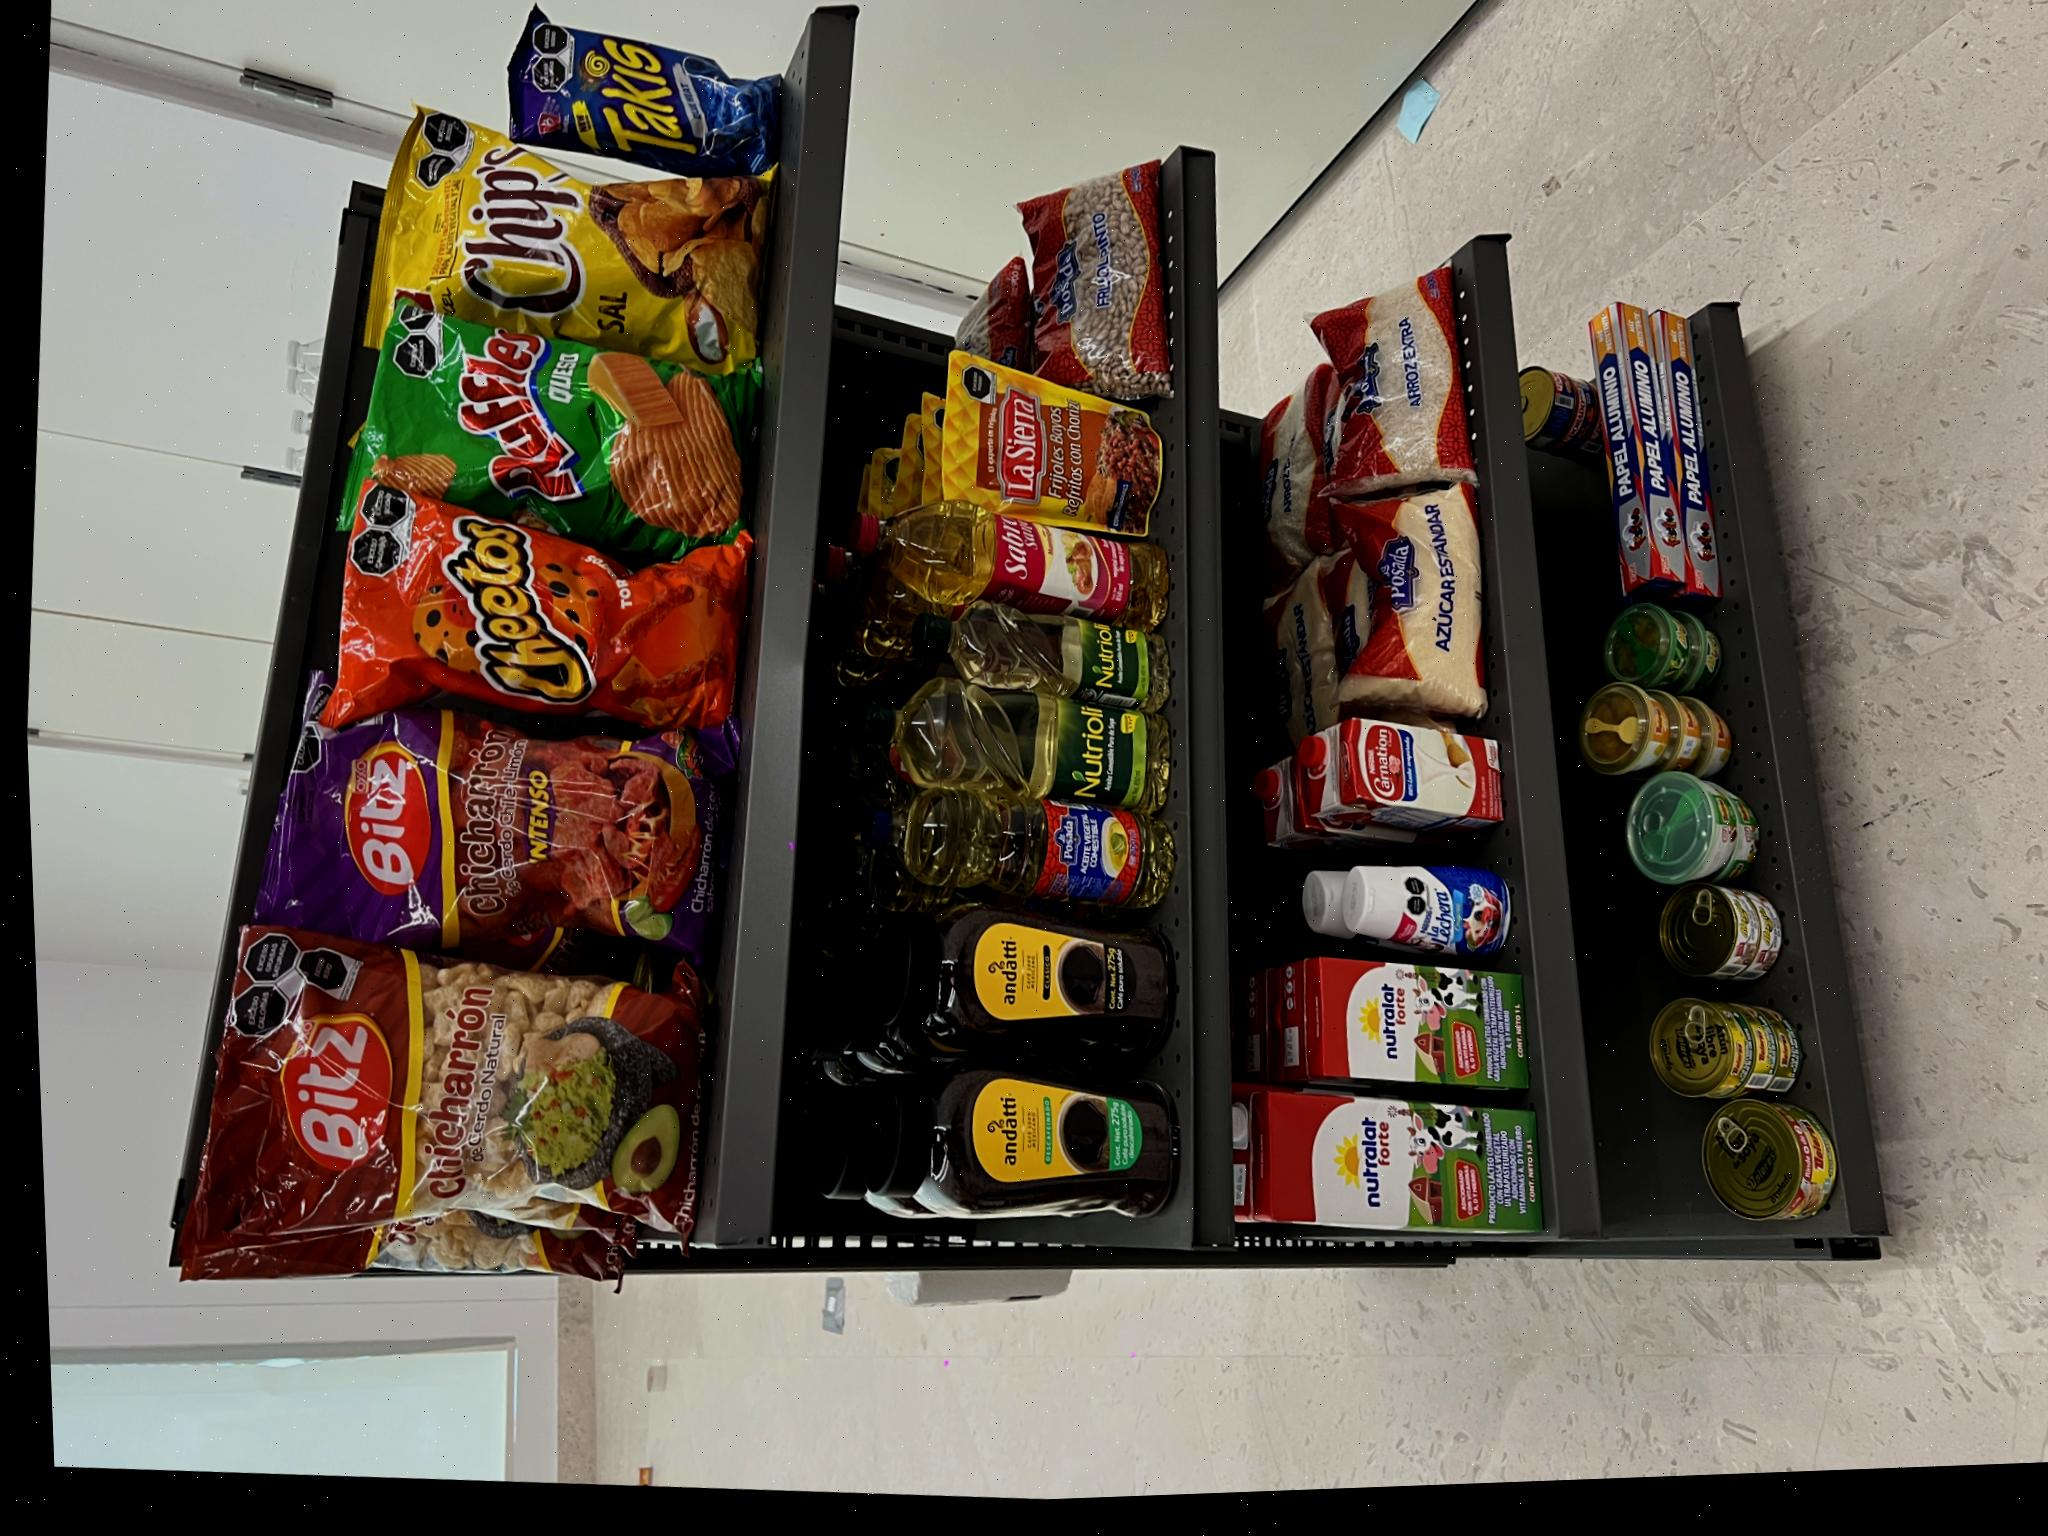aceite_nutrioli_400ml: (806, 837, 914, 1100)
aceite_nutrioli_850ml: (705, 773, 845, 1102)
aceite_posada: (603, 787, 739, 1099)
aceite_saborsano: (890, 774, 1019, 1092)
andatti: (303, 807, 460, 1105), (466, 807, 619, 1102)
arroz_laposada: (1021, 1226, 1255, 1404)
azucar_laposada: (800, 1249, 1040, 1417)
carnation: (681, 1255, 808, 1438)
cheetos: (784, 247, 1040, 674)
chicharron_bitz_intenso: (548, 179, 810, 666)
chicharron_bitz_natural: (264, 98, 598, 636)
chips_sal: (1145, 286, 1414, 707)
frijol_laposada: (1121, 936, 1355, 1099)
frijol_lasierra: (984, 866, 1166, 1092)
lalechera: (563, 1279, 660, 1439)
leche_nutralatforte: (277, 1184, 432, 1475), (424, 1226, 568, 1463)
ruffles: (956, 276, 1226, 687)
takis: (1350, 432, 1509, 716)
